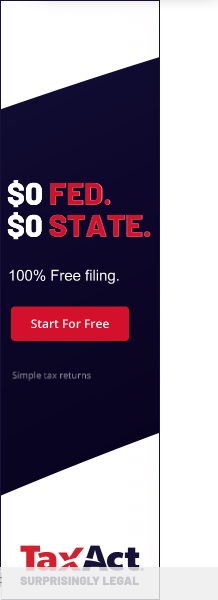fake_button: (8, 303, 133, 348)
